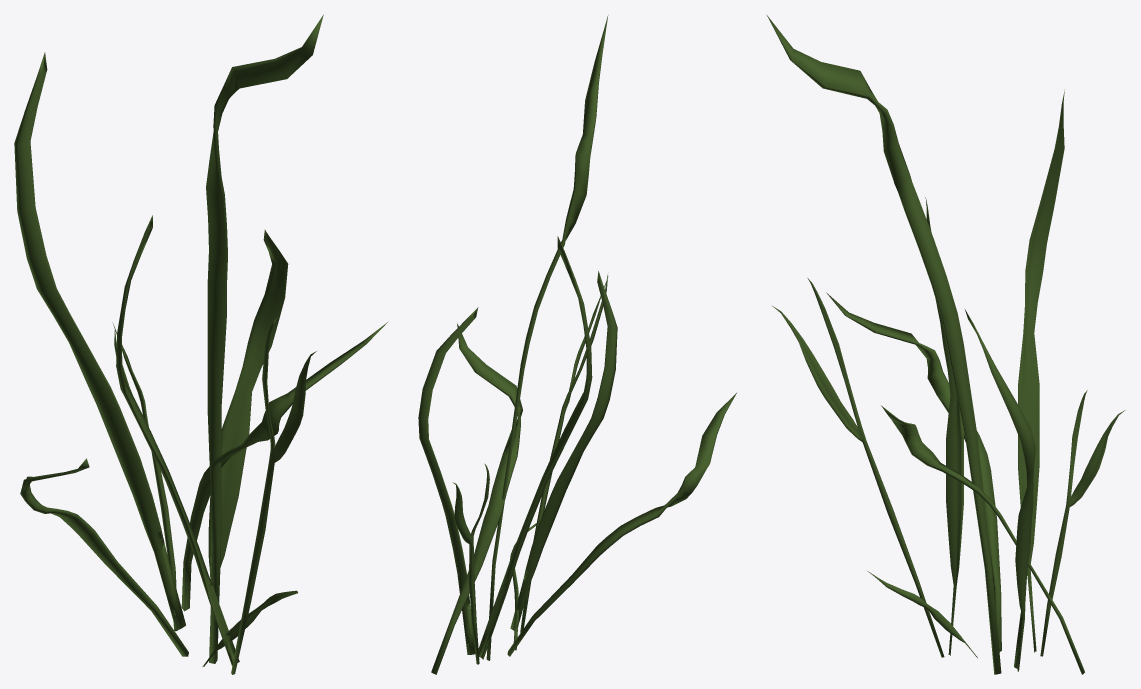
File: grassClump2.fbx
The picture shows the model from 3 angles, left to right: view 1: azimuth 30°, elevation 25°; view 2: azimuth 150°, elevation 25°; view 3: azimuth 270°, elevation 25°; orthographic projection. The views are drawn at different scales.
Visible parts, largest first — view 1: Cube.003, Cube.007, Cube.004, Cube.009, Cube.008, Cube.010, Cube.006, Cube.005, Cube.011; view 2: Cube.007, Cube.009, Cube.010, Cube.004, Cube.006, Cube.003, Cube.008, Cube.005; view 3: Cube.007, Cube.003, Cube.008, Cube.006, Cube.004, Cube.009, Cube.005, Cube.010, Cube.011.
Part boxes in pixels (x1,y1,x2,y2): Cube.003: (14,52,185,630); Cube.007: (206,14,323,663); Cube.004: (208,230,288,581); Cube.009: (116,215,239,665); Cube.008: (231,318,316,674); Cube.010: (181,321,388,611); Cube.006: (20,458,188,656); Cube.005: (112,322,177,631); Cube.011: (202,590,297,666); Cube.007: (486,15,608,660); Cube.009: (510,271,617,630); Cube.010: (431,323,522,674); Cube.004: (418,307,478,654); Cube.006: (507,393,736,656); Cube.003: (478,236,592,659); Cube.008: (520,274,608,632); Cube.005: (452,463,489,664); Cube.007: (766,14,1001,674); Cube.003: (1018,89,1064,652); Cube.008: (772,278,944,657); Cube.006: (826,292,1001,651); Cube.004: (965,309,1035,671); Cube.009: (925,197,963,655); Cube.005: (1040,390,1125,656); Cube.010: (881,405,1084,674); Cube.011: (867,571,977,657).
Size of the model in its own units: 48.42 by 100 by 50.2.
